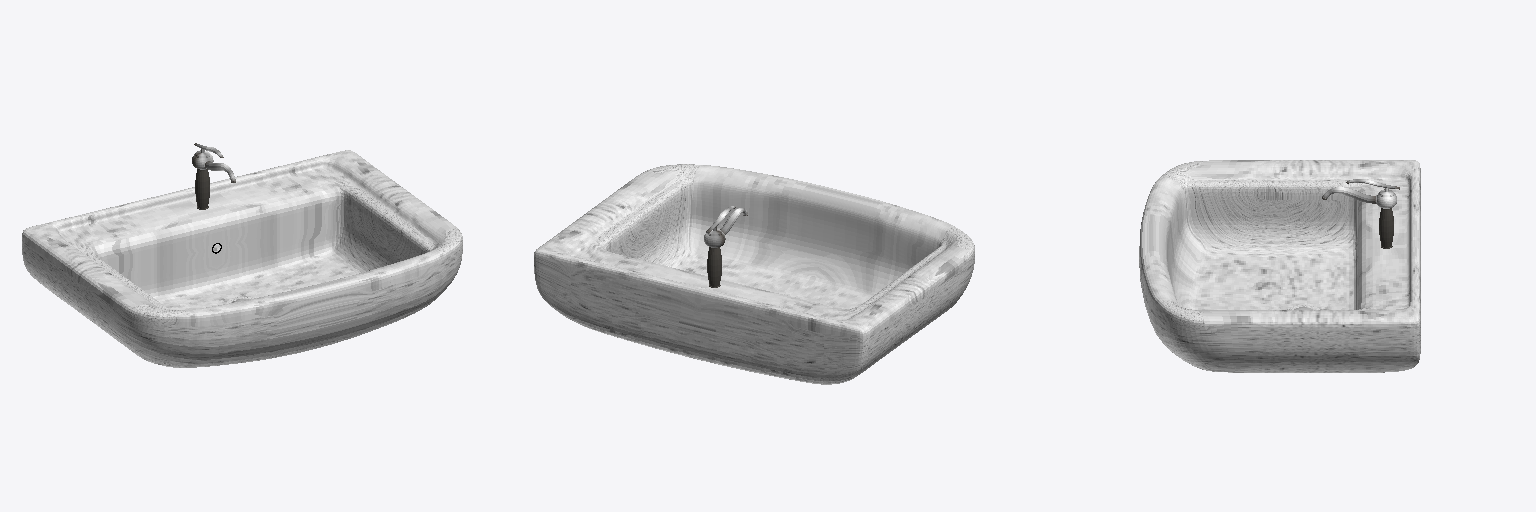
3 renders of one model, left to right at view 1: azimuth 30°, elevation 25°; view 2: azimuth 150°, elevation 25°; view 3: azimuth 270°, elevation 25°, orthographic.
Visible parts, largest first — view 1: Lavamanos3:Mesh; view 2: Lavamanos3:Mesh; view 3: Lavamanos3:Mesh.
Boxes of the visible parts, <box> form: Lavamanos3:Mesh: <box>22,143,462,367</box>; Lavamanos3:Mesh: <box>534,164,974,384</box>; Lavamanos3:Mesh: <box>1139,160,1420,372</box>.
Size of the model in its own units: 24.27 by 10.71 by 17.75.
Materials: 4 (2 with a texture image).